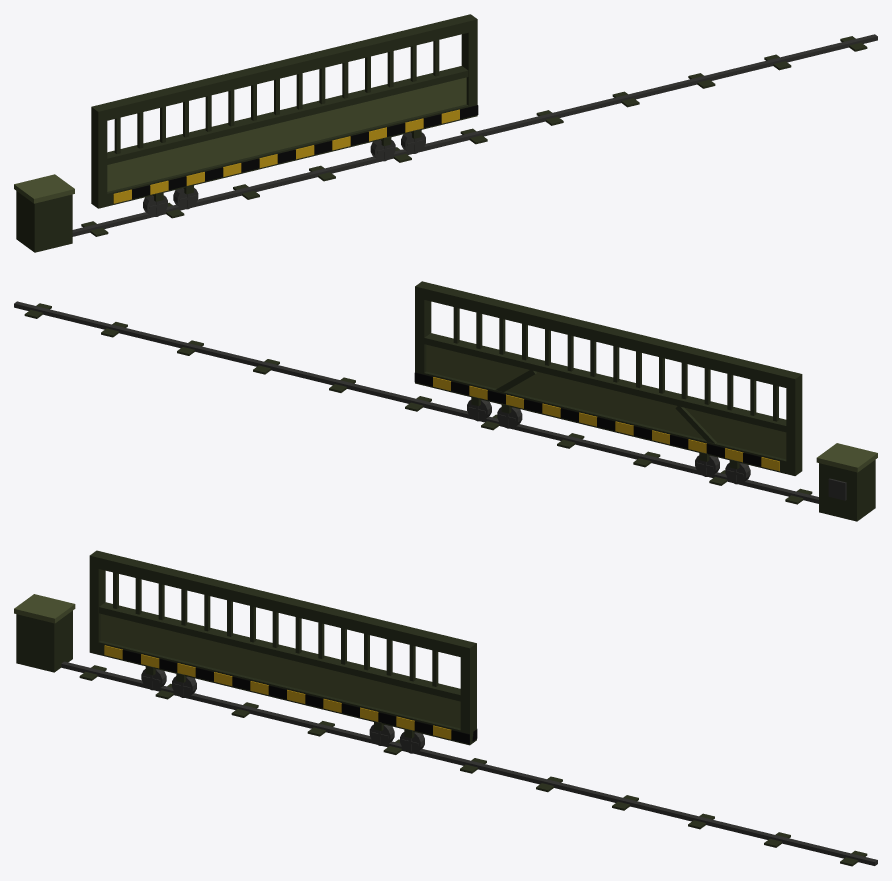
File: poort.glb
The picture shows the model from 3 angles, top to bottom: view 1: azimuth 30°, elevation 25°; view 2: azimuth 150°, elevation 25°; view 3: azimuth 330°, elevation 25°; orthographic projection.
Visible parts, largest first — view 1: Poort_donker, Poort_staal, Vast_metaal, Vast_donker, Poort_zwart, Poort_geel, Vast_staal; view 2: Poort_donker, Poort_staal, Vast_metaal, Vast_donker, Poort_zwart, Poort_geel, Vast_staal; view 3: Poort_donker, Poort_staal, Vast_metaal, Vast_donker, Poort_zwart, Poort_geel, Vast_staal.
Boxes of the visible parts, x1,y1,x2,y2 form: Poort_donker: [91, 14, 477, 208]; Poort_staal: [107, 77, 466, 191]; Vast_metaal: [72, 34, 877, 236]; Vast_donker: [16, 36, 867, 252]; Poort_zwart: [132, 105, 478, 199]; Poort_geel: [113, 109, 459, 203]; Vast_staal: [14, 174, 74, 203]; Poort_donker: [415, 281, 802, 475]; Poort_staal: [426, 344, 786, 459]; Vast_metaal: [14, 301, 846, 503]; Vast_donker: [24, 303, 875, 521]; Poort_zwart: [414, 372, 761, 466]; Poort_geel: [433, 377, 779, 471]; Vast_staal: [816, 443, 877, 472]; Poort_donker: [89, 550, 476, 745]; Poort_staal: [100, 614, 460, 728]; Vast_metaal: [61, 661, 877, 865]; Vast_donker: [16, 610, 867, 866]; Poort_zwart: [122, 649, 477, 743]; Poort_geel: [104, 645, 451, 739]; Vast_staal: [14, 594, 75, 623].
Size of the model in its own units: 11.22 by 1.52 by 0.465.
